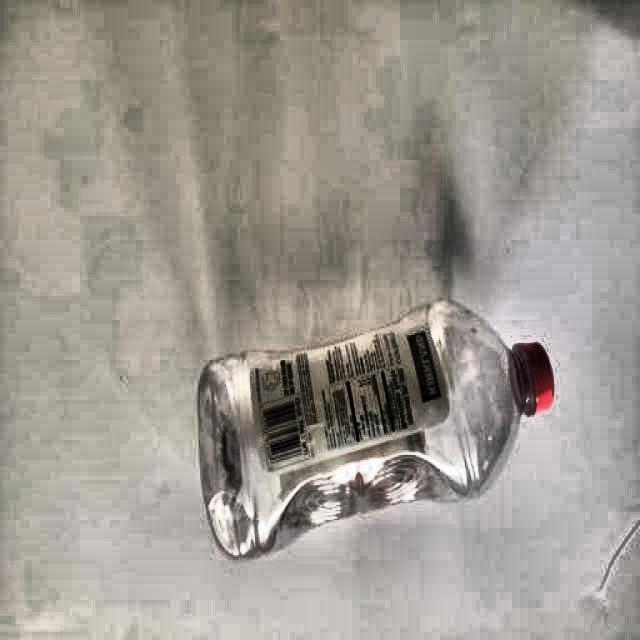Anorganik: (186, 285, 581, 584)
